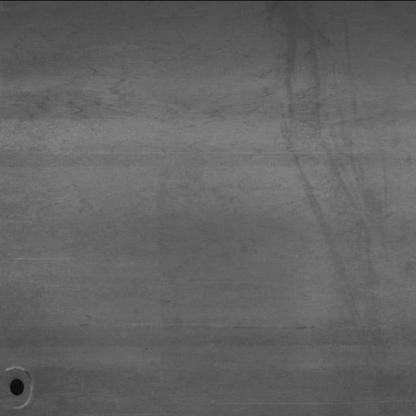punching_hole: (5, 376, 29, 396)
silk_spot: (12, 57, 366, 159), (7, 172, 226, 260)
